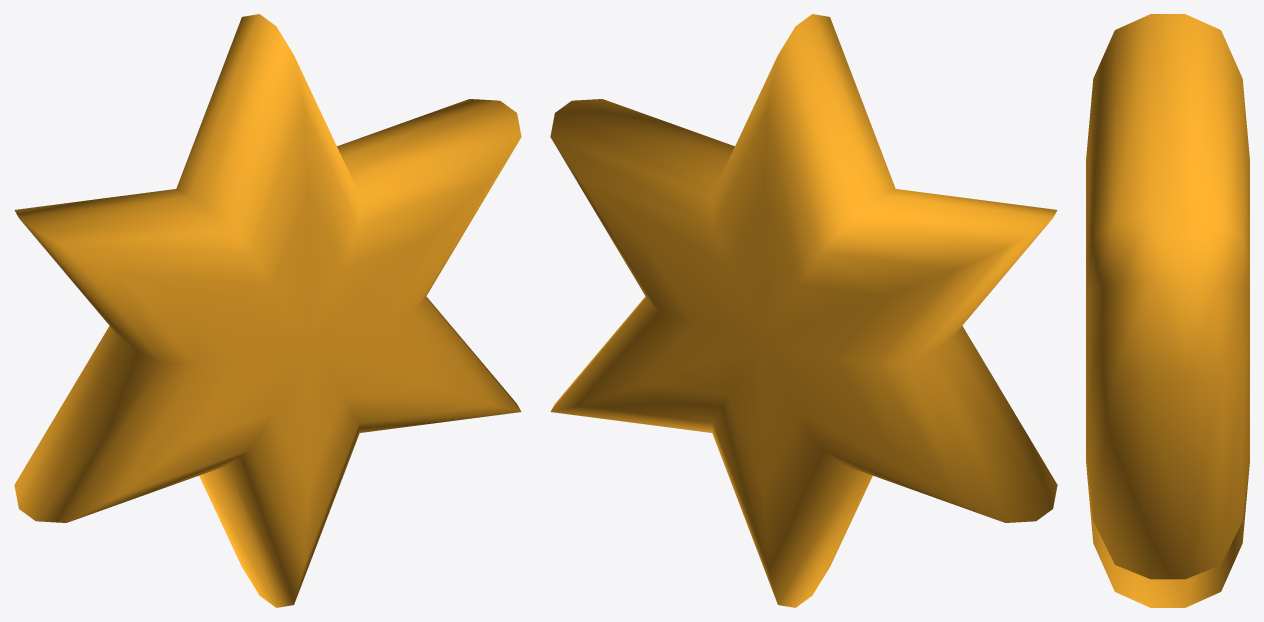
File: 04-STAR-06.fbx
The picture shows the model from 3 angles, left to right: view 1: azimuth 30°, elevation 25°; view 2: azimuth 150°, elevation 25°; view 3: azimuth 270°, elevation 25°; orthographic projection. The views are drawn at different scales.
Visible parts, largest first — view 1: 04-STAR-06; view 2: 04-STAR-06; view 3: 04-STAR-06.
Part boxes in pixels (bbox=[...]): 04-STAR-06: bbox=[14, 14, 521, 607]; 04-STAR-06: bbox=[550, 14, 1057, 607]; 04-STAR-06: bbox=[1086, 14, 1249, 607].
Size of the model in its own units: 346 by 400 by 100.
